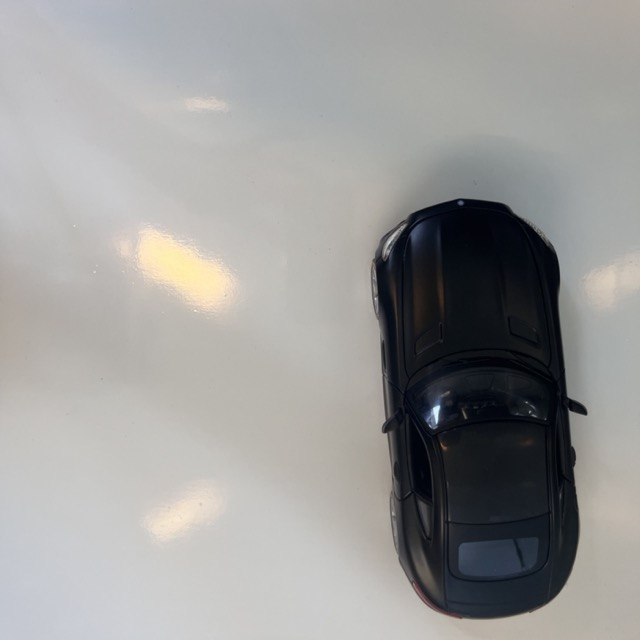car: (371, 198, 590, 621)
